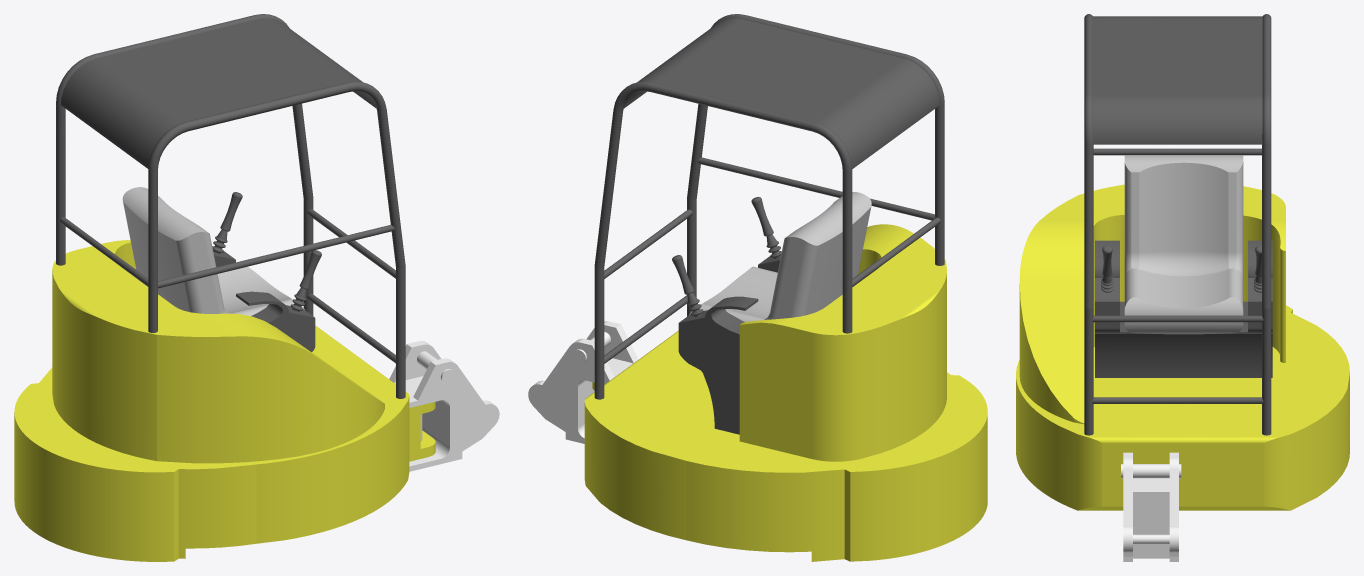
The model's file is body.dae.
3 views of the same model, side by side, from view 1: azimuth 30°, elevation 25°; view 2: azimuth 150°, elevation 25°; view 3: azimuth 270°, elevation 25° (orthographic). The views are drawn at different scales.
Visible parts, largest first — view 1: 02-Corpo.001, 03-Capota.005, 16-Poltrona, 14-Eje, 03-Capota.004, 16-Base_do_Controle, 03-Capota.003, 03-Capota.001, 03-Capota.002, 03-Capota; view 2: 02-Corpo.001, 03-Capota.005, 16-Poltrona, 03-Capota.004, 16-Base_do_Controle, 14-Eje, 03-Capota.003, 03-Capota, 03-Capota.002, 03-Capota.001; view 3: 02-Corpo.001, 03-Capota.005, 16-Poltrona, 16-Base_do_Controle, 14-Eje, 03-Capota.004, 03-Capota, 03-Capota.002, 03-Capota.001.
Boxes of the visible parts, bbox=[...] form: 02-Corpo.001: bbox=[14, 240, 435, 561]; 03-Capota.005: bbox=[61, 18, 405, 398]; 16-Poltrona: bbox=[122, 187, 304, 315]; 14-Eje: bbox=[389, 341, 499, 471]; 03-Capota.004: bbox=[56, 14, 313, 315]; 16-Base_do_Controle: bbox=[212, 192, 321, 352]; 03-Capota.003: bbox=[157, 225, 394, 288]; 03-Capota.001: bbox=[307, 294, 395, 363]; 03-Capota.002: bbox=[59, 217, 148, 286]; 03-Capota: bbox=[307, 209, 395, 278]; 02-Corpo.001: bbox=[584, 224, 987, 561]; 03-Capota.005: bbox=[623, 14, 944, 316]; 16-Poltrona: bbox=[689, 192, 871, 321]; 03-Capota.004: bbox=[594, 81, 852, 399]; 16-Base_do_Controle: bbox=[672, 197, 781, 434]; 14-Eje: bbox=[528, 321, 638, 443]; 03-Capota.003: bbox=[698, 157, 934, 220]; 03-Capota: bbox=[604, 209, 692, 278]; 03-Capota.002: bbox=[852, 217, 940, 286]; 03-Capota.001: bbox=[604, 295, 687, 363]; 02-Corpo.001: bbox=[1016, 184, 1349, 510]; 03-Capota.005: bbox=[1084, 14, 1262, 435]; 16-Poltrona: bbox=[1124, 155, 1243, 334]; 16-Base_do_Controle: bbox=[1095, 240, 1272, 377]; 14-Eje: bbox=[1121, 452, 1181, 561]; 03-Capota.004: bbox=[1262, 14, 1271, 435]; 03-Capota: bbox=[1092, 315, 1263, 322]; 03-Capota.002: bbox=[1093, 148, 1261, 155]; 03-Capota.001: bbox=[1092, 397, 1263, 403].
Bounding box in the file's own units: 2.06 × 1.41 × 1.89.
